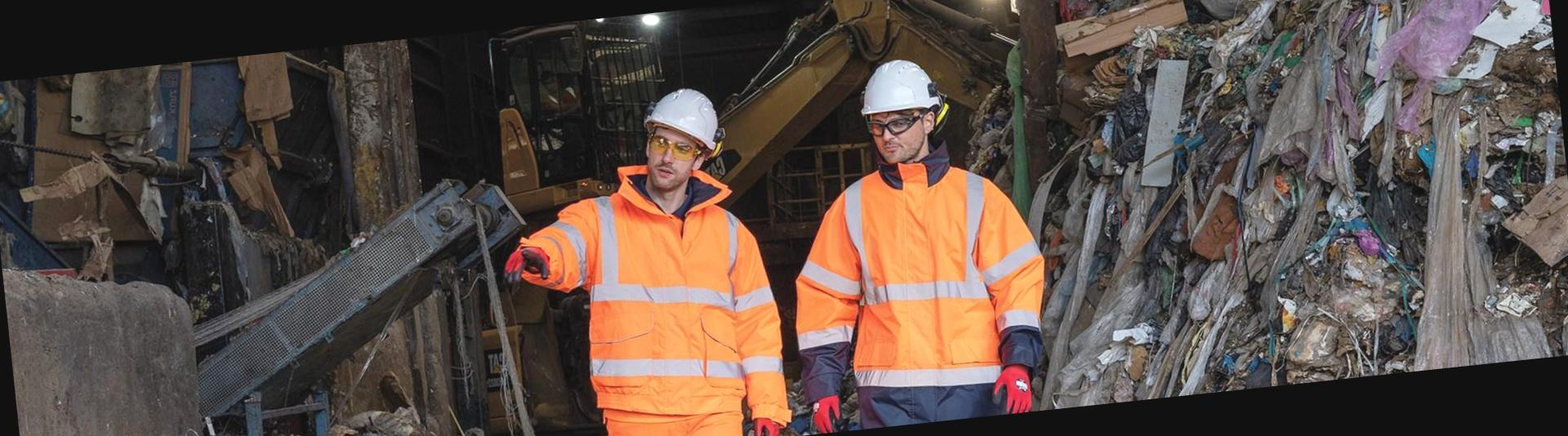helmet: (848, 53, 953, 138), (631, 78, 729, 168)
person: (789, 47, 1052, 433), (555, 73, 802, 436)
